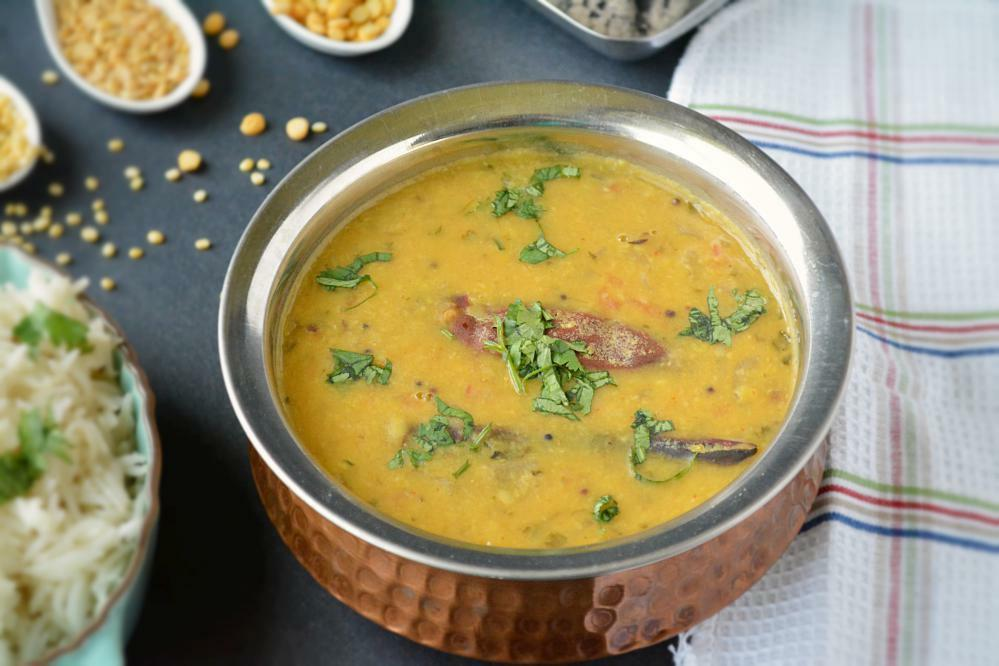Dal: (281, 153, 788, 546)
